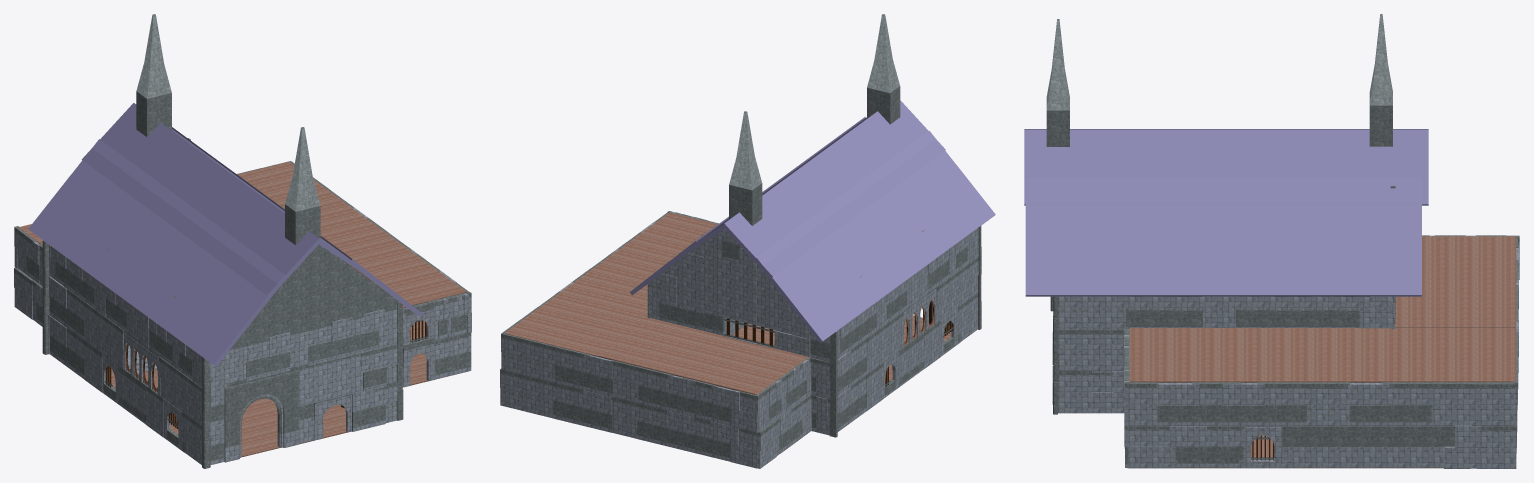
The model's file is Chapel+Library_1.obj.
The picture shows the model from 3 angles, left to right: view 1: azimuth 30°, elevation 25°; view 2: azimuth 150°, elevation 25°; view 3: azimuth 270°, elevation 25°; orthographic projection. The views are drawn at different scales.
Parts seen in each view (by area): view 1: block, roof_halfLarge, block_gate%, roof, roof_pointSteps, chimney_middle, gate; view 2: block, roof_halfLarge, roof_pointSteps, roof, block_gate%, chimney_middle, gate; view 3: block, roof_halfLarge, roof_pointSteps, block_gate%, chimney_middle.
Part boxes in pixels (box(x1,y1,x2,y2)): block: box(14, 111, 471, 464); roof_halfLarge: box(28, 103, 422, 366); block_gate%: box(102, 310, 434, 462); roof: box(233, 245, 402, 345); roof_pointSteps: box(136, 14, 320, 231); chimney_middle: box(42, 240, 403, 468); gate: box(104, 320, 428, 428); block: box(500, 104, 978, 468); roof_halfLarge: box(629, 100, 995, 343); roof_pointSteps: box(729, 14, 900, 208); roof: box(647, 229, 774, 315); block_gate%: box(883, 289, 957, 396); chimney_middle: box(829, 226, 981, 437); gate: box(723, 318, 953, 387); block: box(1046, 126, 1519, 468); roof_halfLarge: box(1024, 129, 1428, 296); roof_pointSteps: box(1046, 14, 1392, 131); block_gate%: box(1124, 427, 1282, 461); chimney_middle: box(1050, 296, 1058, 414).
Size of the model in its own units: 16.4 by 16.43 by 21.12.
